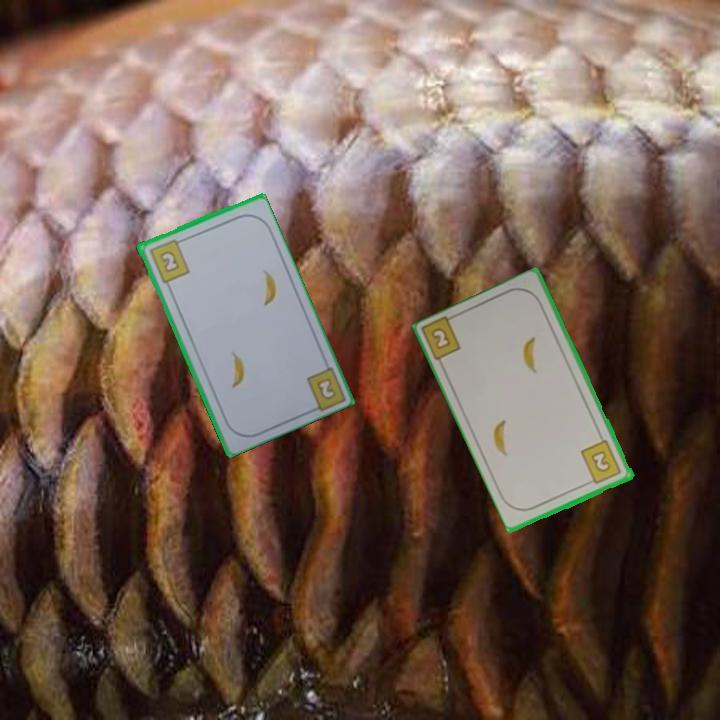2b: (577, 437, 624, 487), (145, 235, 192, 285), (428, 324, 454, 353), (313, 374, 339, 403)
